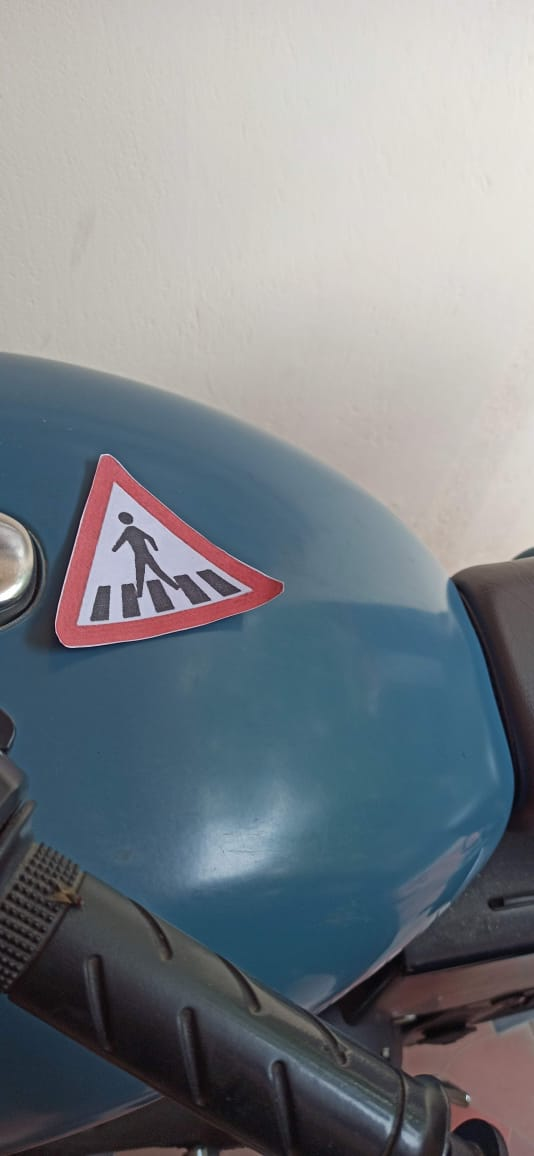PEDESTRIAN CROSSING: (52, 429, 297, 665)
